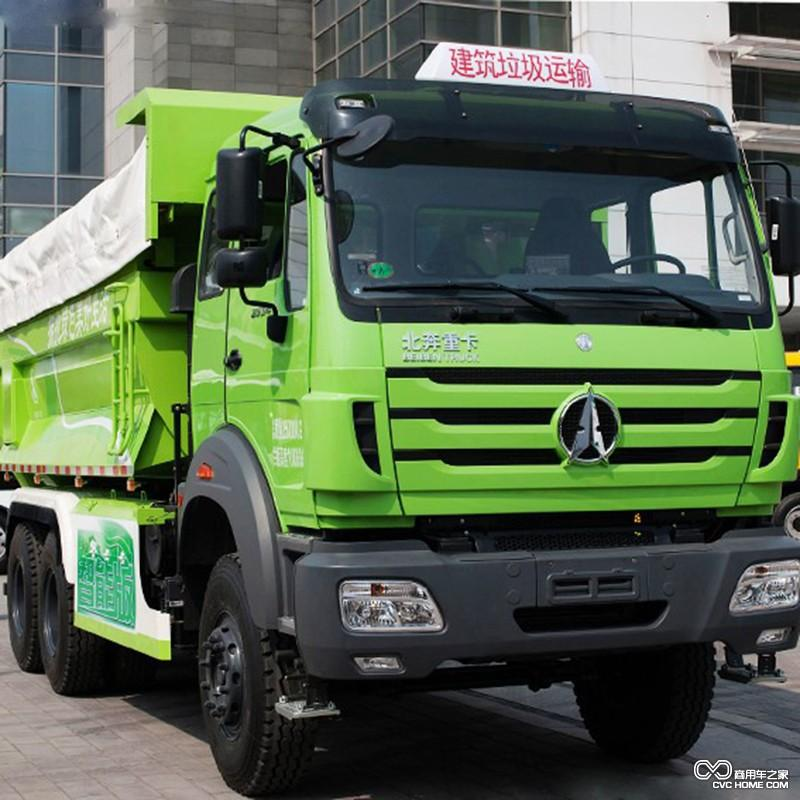truck: (1, 40, 800, 785)
